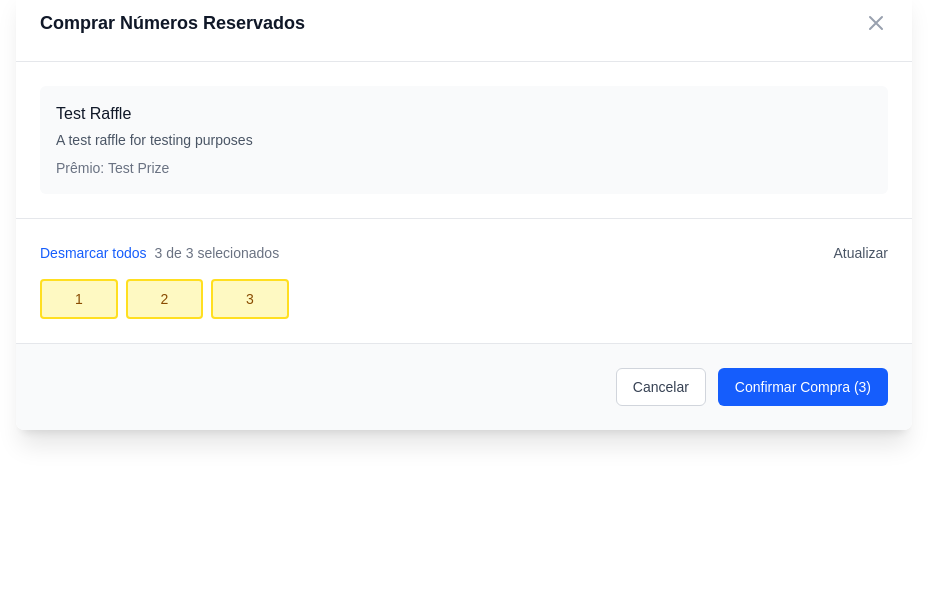
RafflePurchaseModal › should handle successful purchase with pre-selected numbers
Expected: the button "1" is shown, [40, 278, 118, 318]
// Os números já estão pré-selecionados, apenas confirmar a compra
Click the button "Confirmar Compra (3)".
click(803, 386)  # box [718, 368, 888, 406]
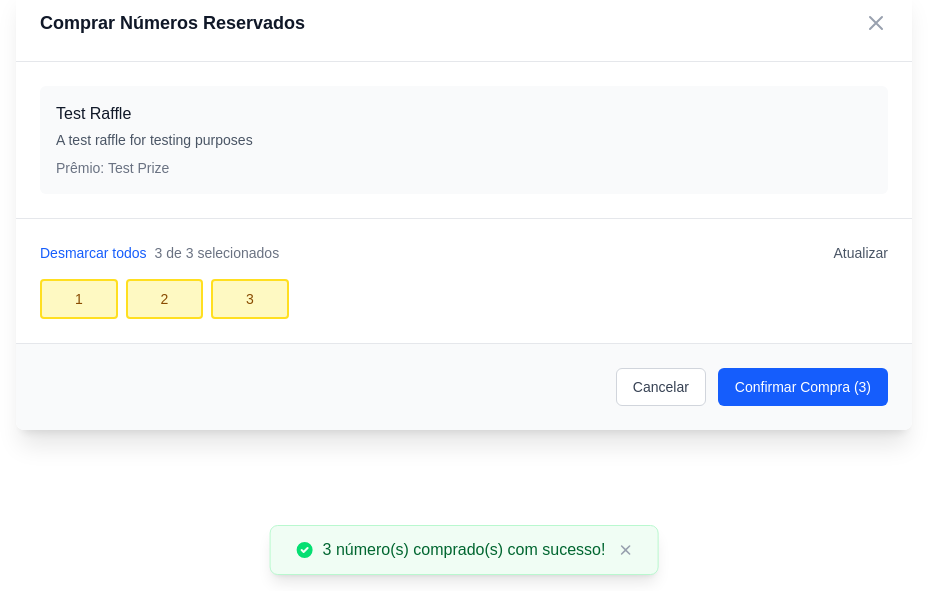
Result: the text "3 número(s) comprado(s) com sucesso!" is shown at [323, 538, 605, 562]
